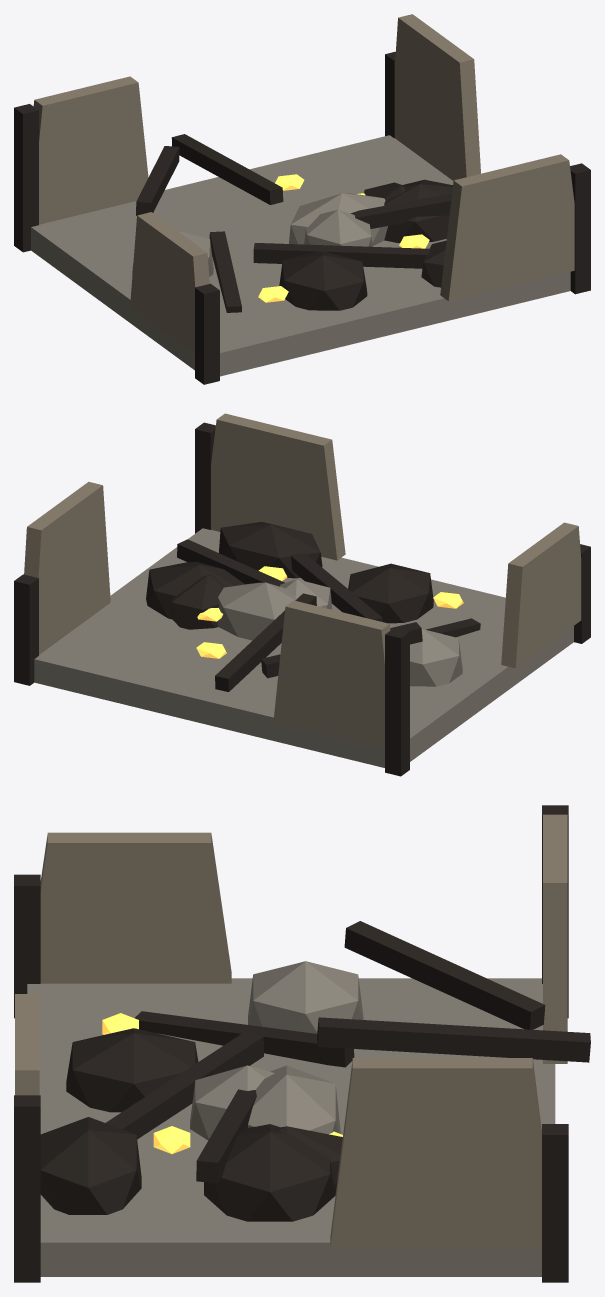
File: Dorf_Bauernhaus_Klein_Ruine.fbx
3 views of the same model, one above another, from view 1: azimuth 30°, elevation 25°; view 2: azimuth 150°, elevation 25°; view 3: azimuth 270°, elevation 25° (orthographic). The views are drawn at different scales.
Parts seen in each view (by area): view 1: Dorf_Bauernhaus_Klein_Ruine; view 2: Dorf_Bauernhaus_Klein_Ruine; view 3: Dorf_Bauernhaus_Klein_Ruine.
Boxes of the visible parts, x1,y1,x2,y2 form: Dorf_Bauernhaus_Klein_Ruine: (14, 14, 590, 384); Dorf_Bauernhaus_Klein_Ruine: (14, 413, 590, 776); Dorf_Bauernhaus_Klein_Ruine: (14, 805, 590, 1282).
Size of the model in its own units: 5.87 by 2.25 by 5.2.
